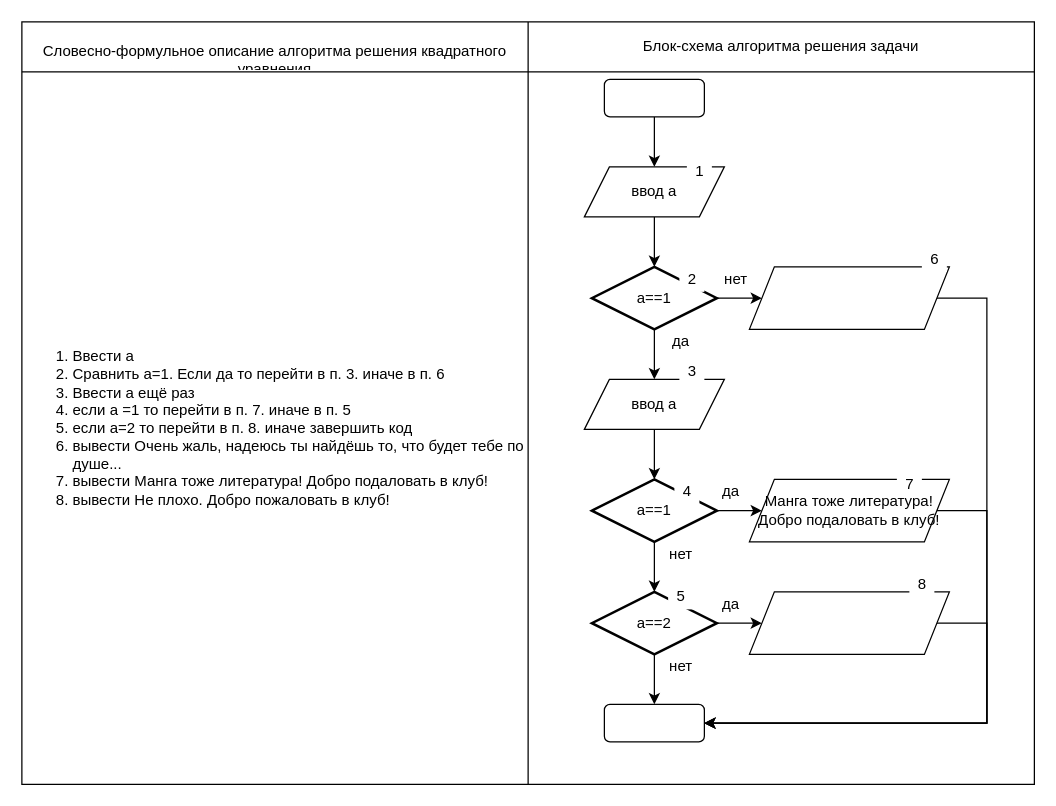
Image size: 1056x806. Some labels were removed from this diagram. The shapes that lost their labels are listed below. From the top down, each one's centre as x and y in pixels, then its label:
At point (653, 97): "начало".
At point (848, 297): "Очень жаль, надеюсь ты найдёшь то, что будет тебе по душе...".
At point (848, 622): "Не плохо. Добро пожаловать в клуб!".
At point (653, 722): "конец".
